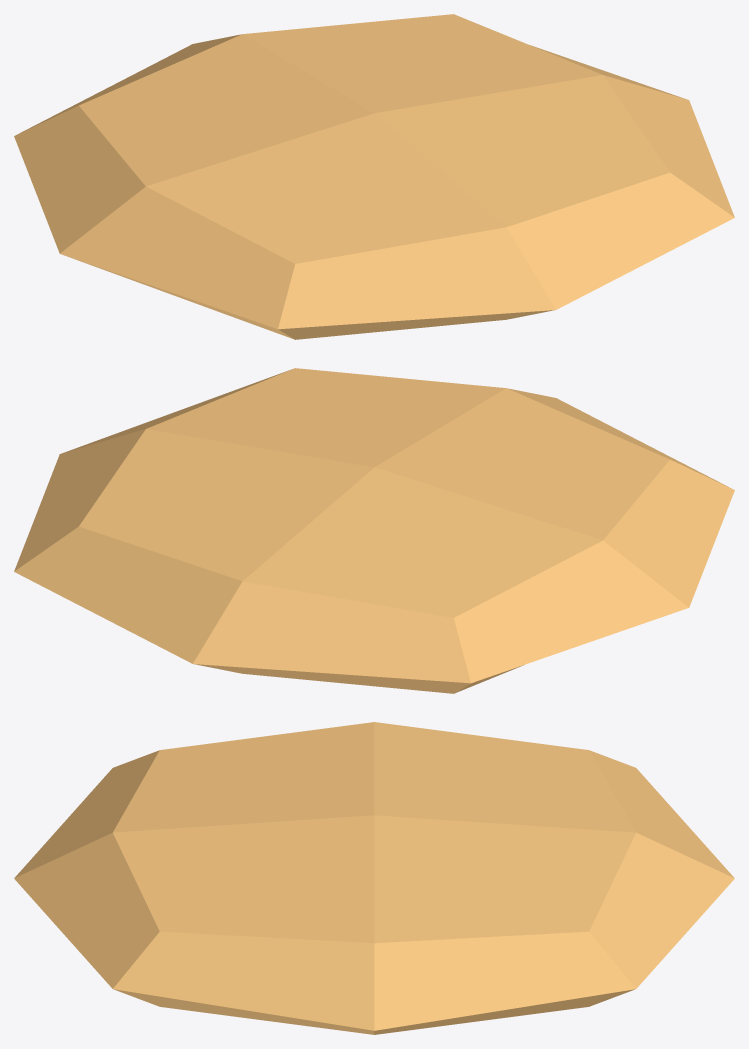
The model's file is boton bocina.fbx.
3 renders of one model, top to bottom at view 1: azimuth 30°, elevation 25°; view 2: azimuth 150°, elevation 25°; view 3: azimuth 270°, elevation 25°, orthographic.
Parts seen in each view (by area): view 1: Cube.005; view 2: Cube.005; view 3: Cube.005.
Boxes of the visible parts, box(x1,y1,x2,y2) form: Cube.005: box(14, 14, 734, 339); Cube.005: box(14, 368, 734, 693); Cube.005: box(14, 722, 734, 1034).
Size of the model in its own units: 40.98 by 7.92 by 40.98.
